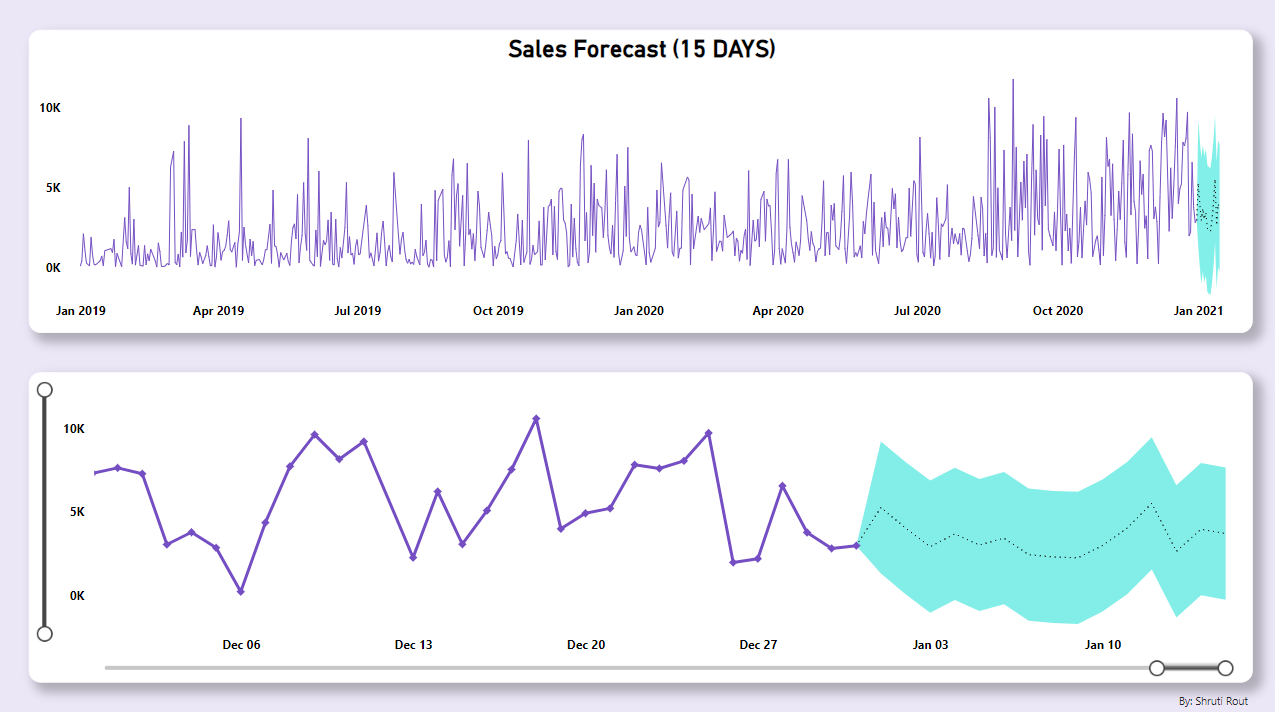

What the dashboard file says about the page in this screenshot:
{"tool":"powerbi","page":{"name":"Sales Forecast ","canvas":[1280,720],"ordinal":1},"visuals":[{"type":"lineChart","title":"SALES FORECASTING (15 DAYS)","fields":{"Y":["Sum(Sheet1.Sales)"],"Category":["Sheet1.Order Date"]},"box":[18.6,42.9,1244.3,302.9],"z":0},{"type":"lineChart","title":"Sales Forecast","fields":{"Y":["Sum(Sheet1.Sales)"],"Category":["Sheet1.Order Date"]},"box":[17.5,375,1243.8,302.5],"z":1000}]}

Visuals, with their boxes in screenshot pixels (x1, y1, x2, y2), scaled from the page's 1280x720 canvas onto the 1275x712 screenshot:
"SALES FORECASTING (15 DAYS)" lineChart: {"left": 19, "top": 42, "right": 1258, "bottom": 342}
"Sales Forecast" lineChart: {"left": 17, "top": 371, "right": 1256, "bottom": 670}
